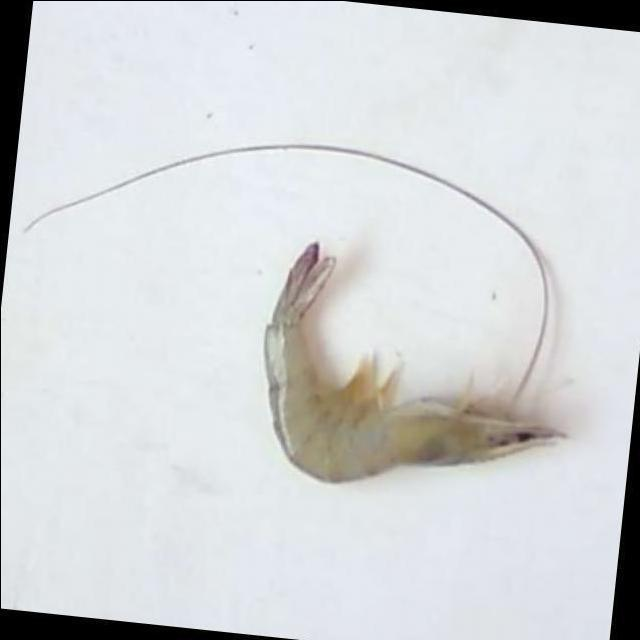shrimp: (263, 243, 559, 483)
